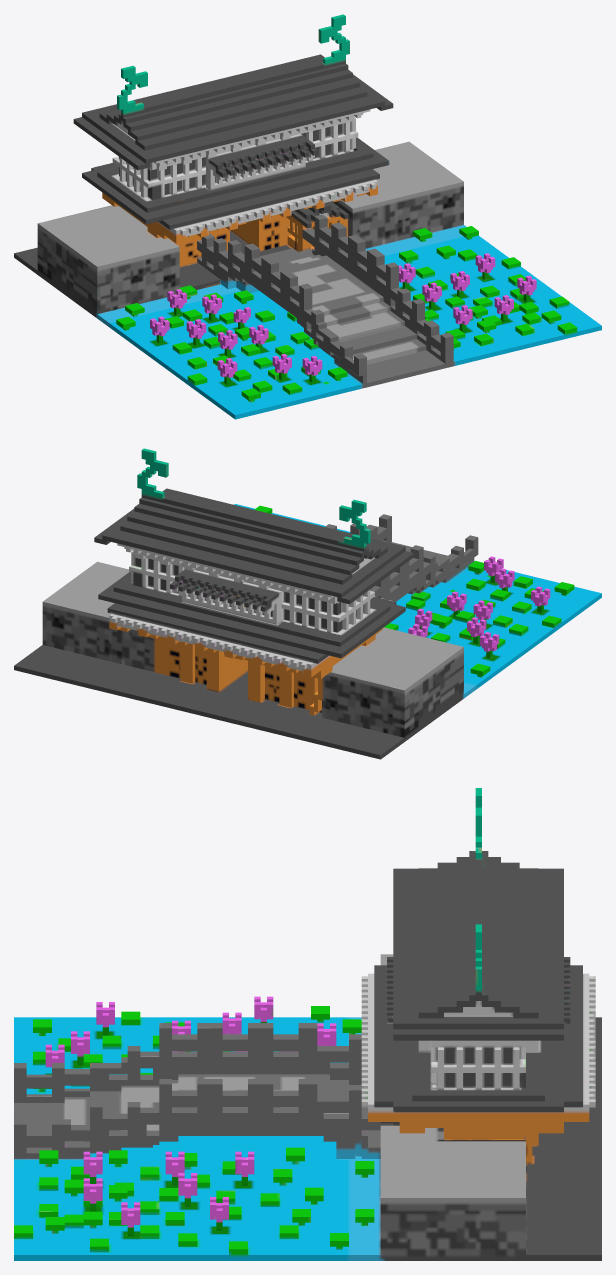
The model's file is goromon.glb.
3 renders of one model, top to bottom at view 1: azimuth 30°, elevation 25°; view 2: azimuth 150°, elevation 25°; view 3: azimuth 270°, elevation 25°, orthographic. The views are drawn at different scales.
Parts seen in each view (by area): view 1: goromon; view 2: goromon; view 3: goromon.
Part boxes in pixels (x1,y1,x2,y2): goromon: (14, 14, 601, 419); goromon: (14, 448, 601, 759); goromon: (14, 788, 601, 1260).
Bounding box in the file's own units: 1.78 × 0.96 × 1.86.
1 material, 1 textured.
